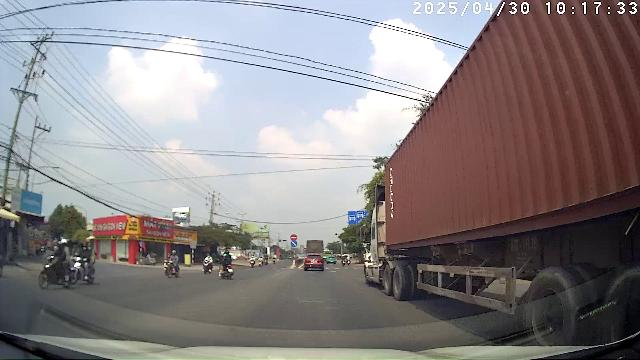102-cam-di-nguoc-chieu: (290, 234, 298, 240)
302a-huong-phai-di-vong-chuong-ngai-vat-1: (290, 241, 298, 247)
